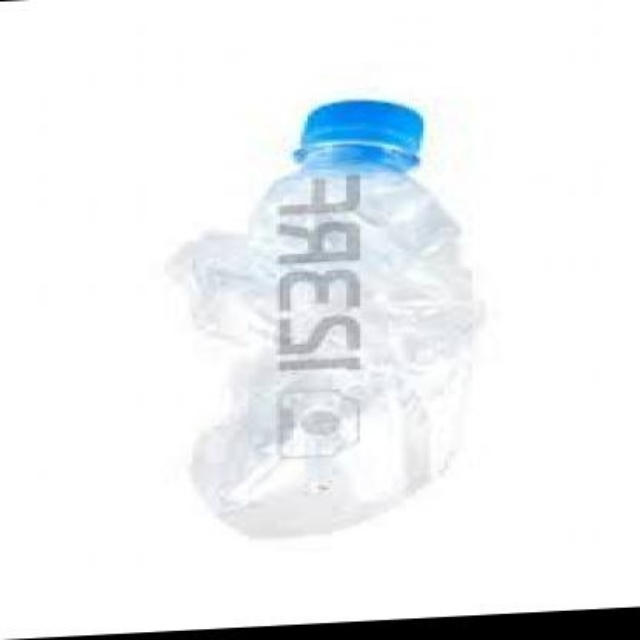trash: (183, 100, 471, 534)
